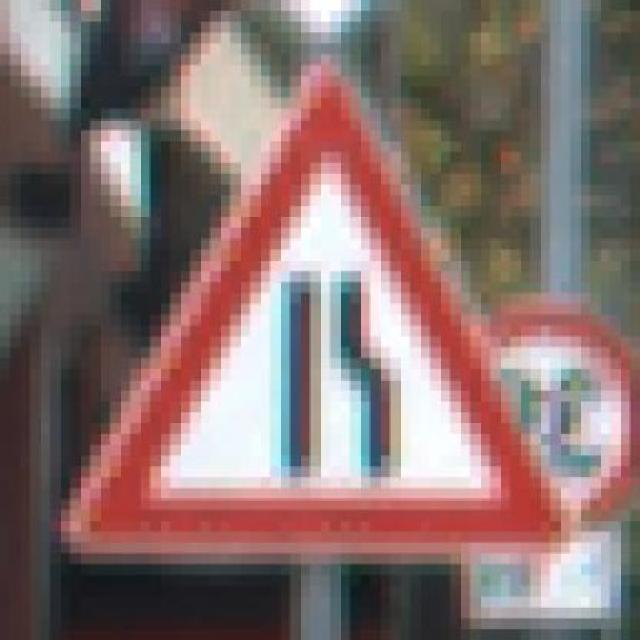-Road narrows on right: (50, 43, 581, 565)
